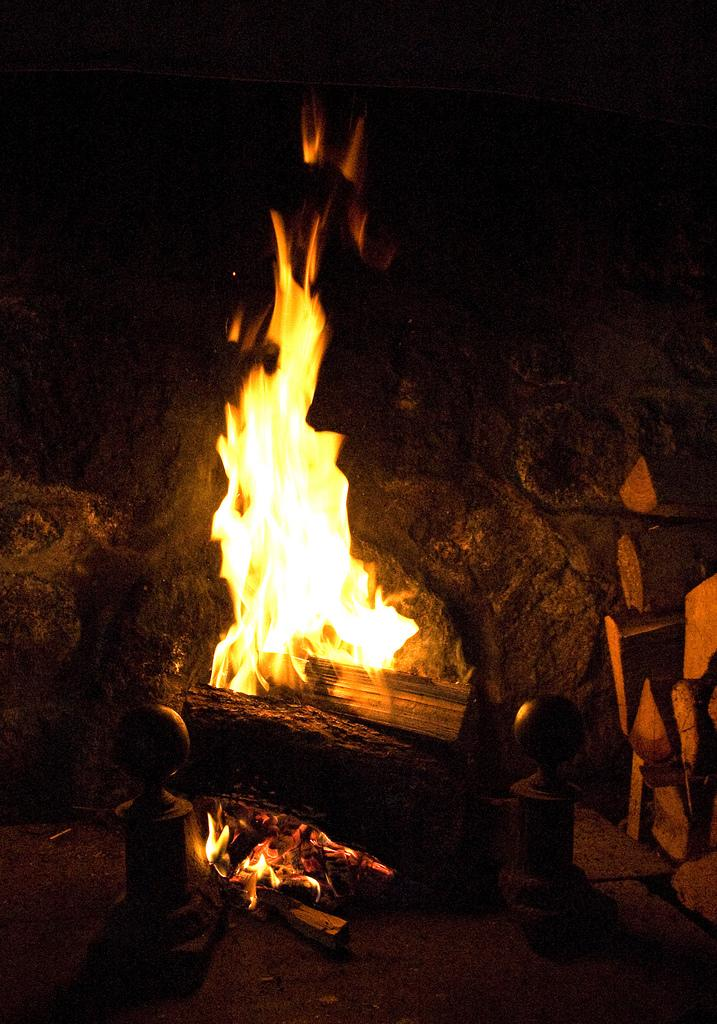fire: (232, 452, 338, 682)
